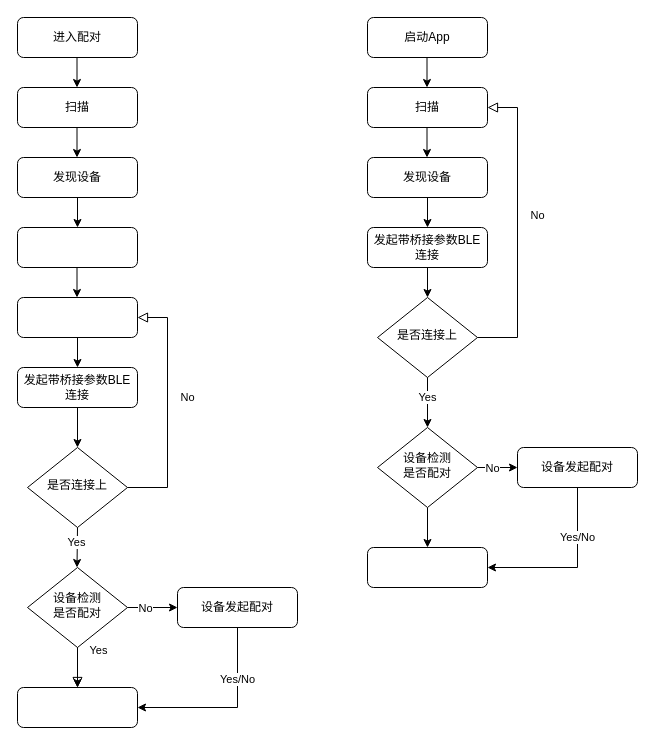
Some shapes in this 655 by 745 pixel diagram are drawn without their labels. The shapes that lost their labels are listed below. From the top down, each one's centre as x and y in pixels, then its label:
At [77,247]: "选择设备".
At [77,317]: "进入setup页面".
At [427,567]: "连接成功".
At [77,707]: "配对成功".
